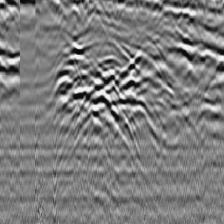cavities: (51, 38, 166, 145)
